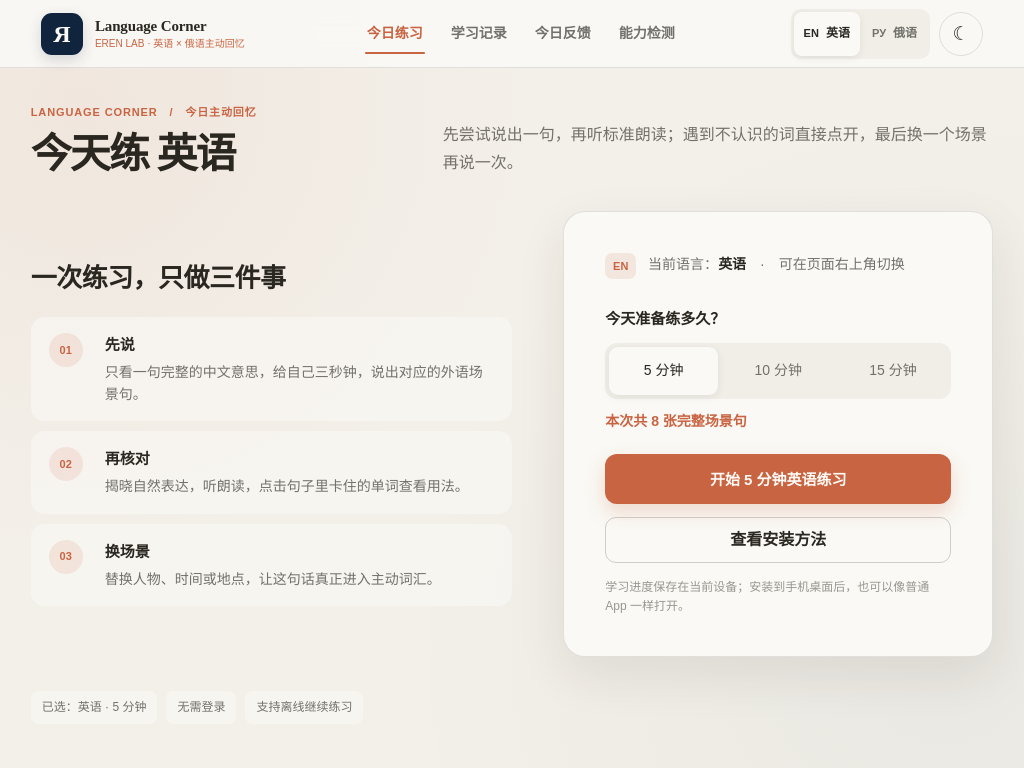
Scenario: Language Corner app › shows the brand and switches between English and Russian
Expected: the text "LANGUAGE CORNER / 今日主动回忆" is shown, [31,106,256,118]
Click the button with aria-label "切换到俄语" at (894, 34), box [862,12,927,56]
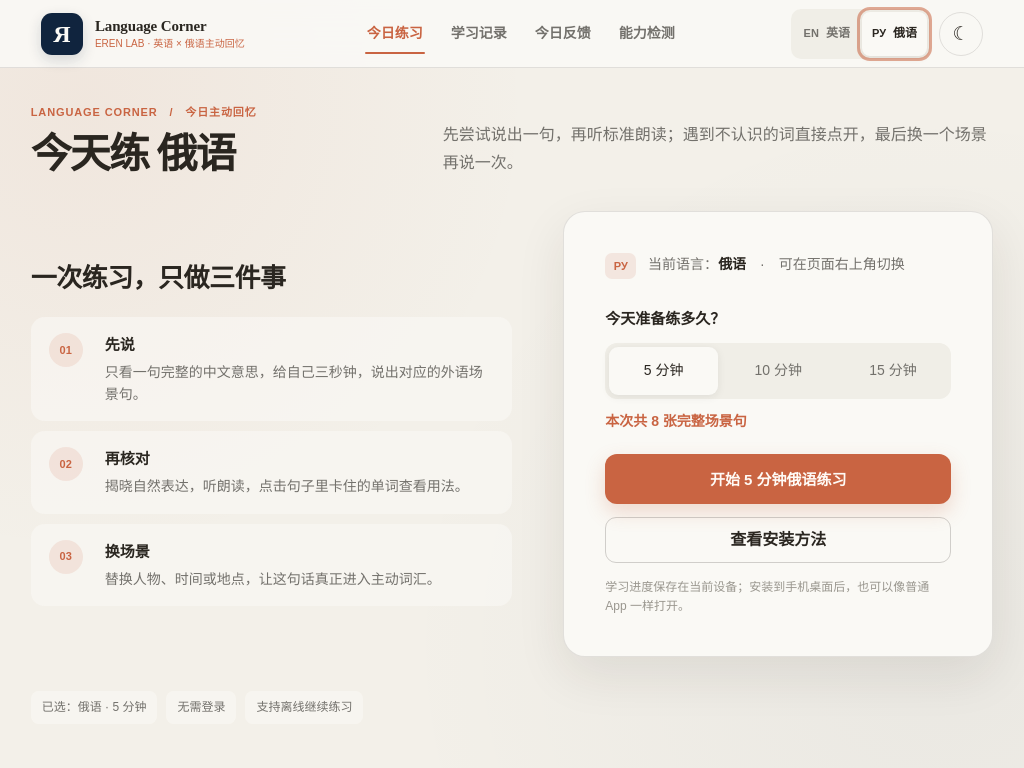
Expected: the text "学习进度保存在当前设备；安装到手机桌面后，也可以像普通 App 一样打开。" is shown, [605,578,951,616]
Expected: the heading "今天练 俄语" is shown, [31,131,235,177]
